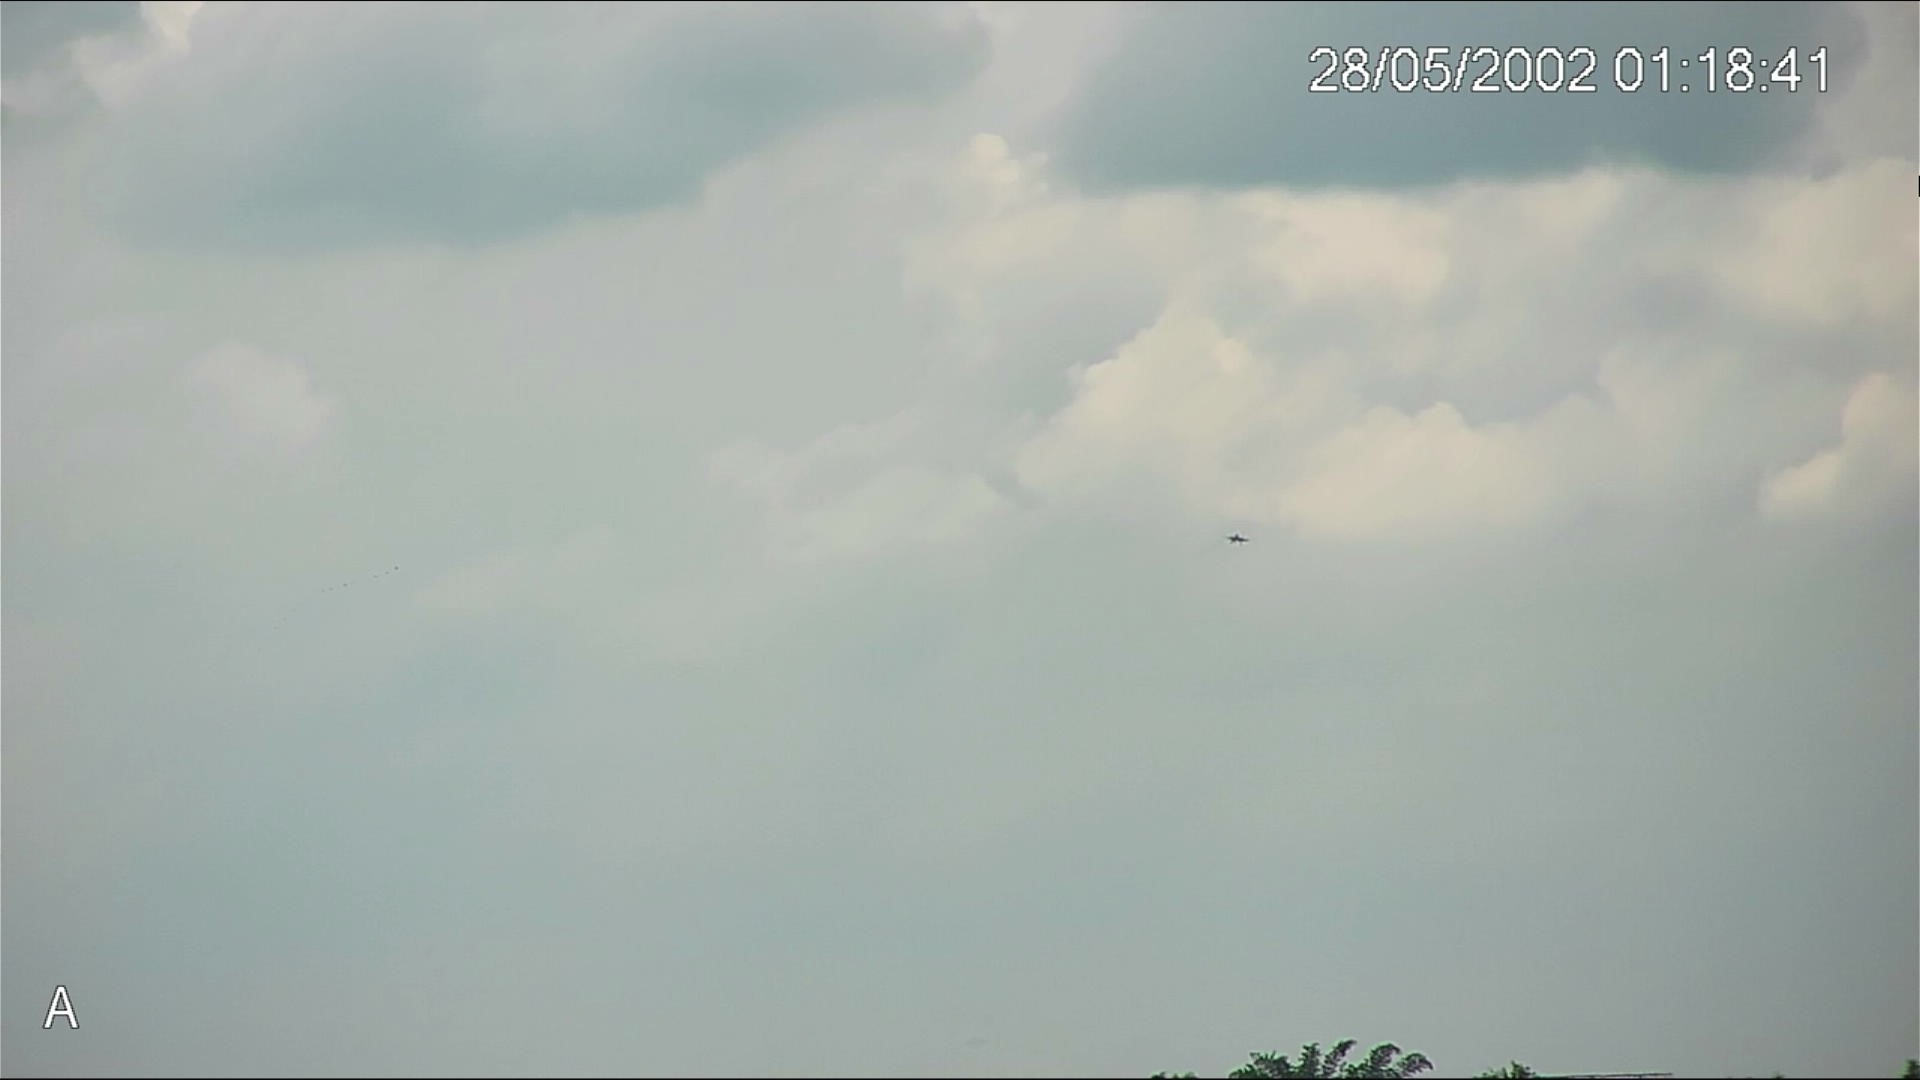SU_30: (1225, 531, 1249, 546)
